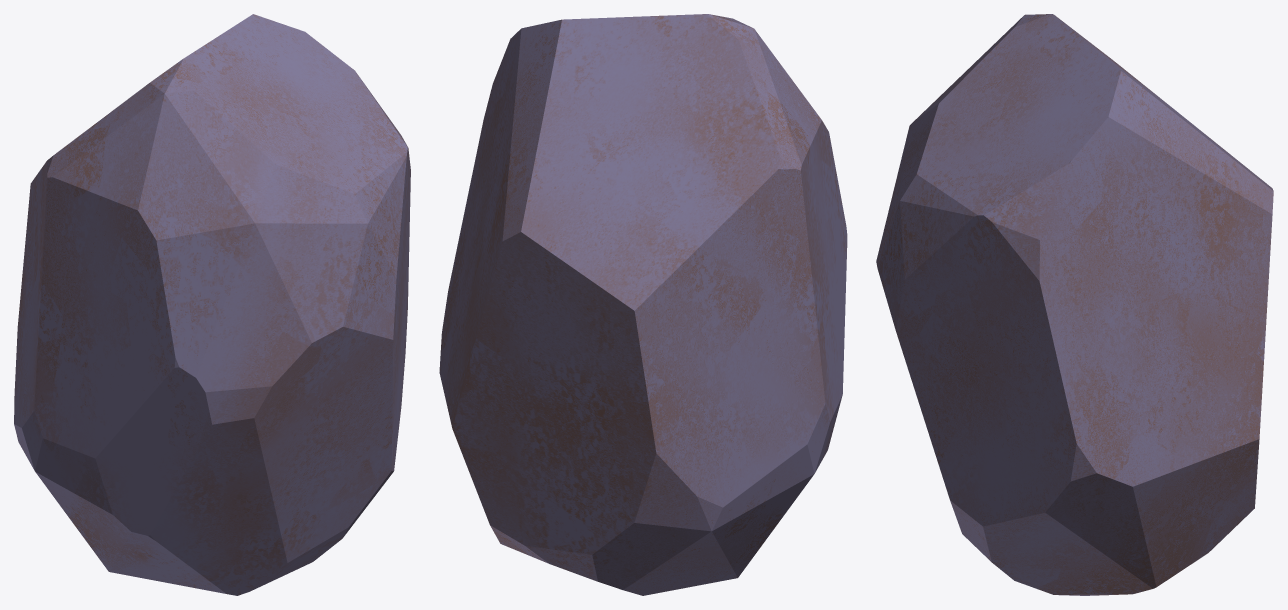
File: rock_3.fbx
3 renders of one model, left to right at view 1: azimuth 30°, elevation 25°; view 2: azimuth 150°, elevation 25°; view 3: azimuth 270°, elevation 25°, orthographic. The views are drawn at different scales.
Visible parts, largest first — view 1: rock 3; view 2: rock 3; view 3: rock 3.
Boxes of the visible parts, bbox=[...] form: rock 3: bbox=[14, 14, 410, 595]; rock 3: bbox=[439, 14, 847, 595]; rock 3: bbox=[876, 14, 1273, 595].
Size of the model in its own units: 184 by 265 by 173.
